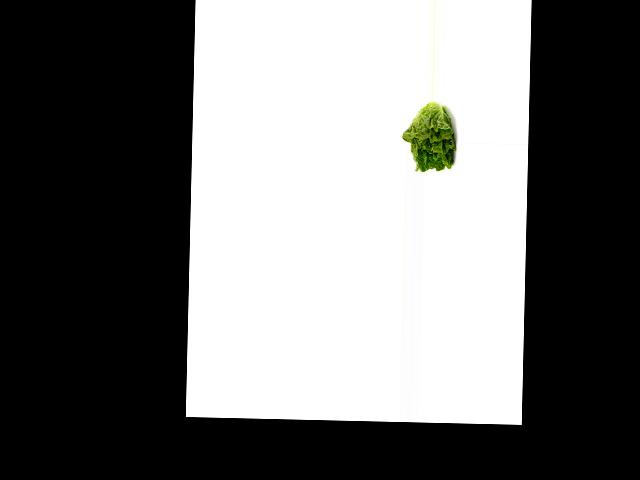lettuce: (402, 101, 460, 172)
